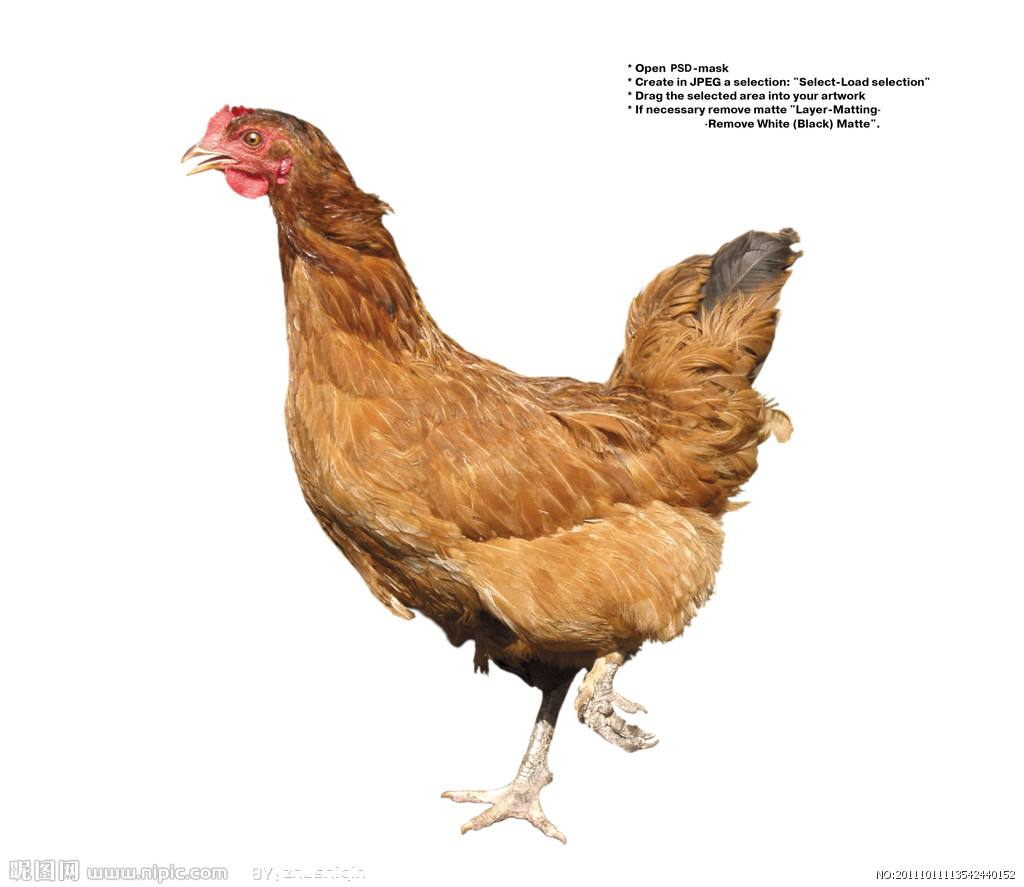chicken: (174, 79, 804, 842)
